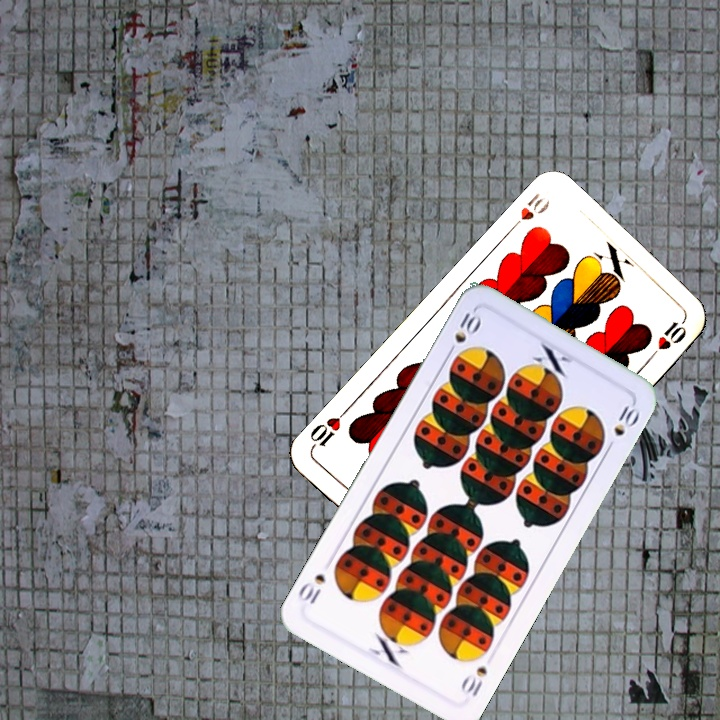H10: (504, 188, 553, 236)
S10: (442, 308, 483, 359), (457, 662, 490, 700)
